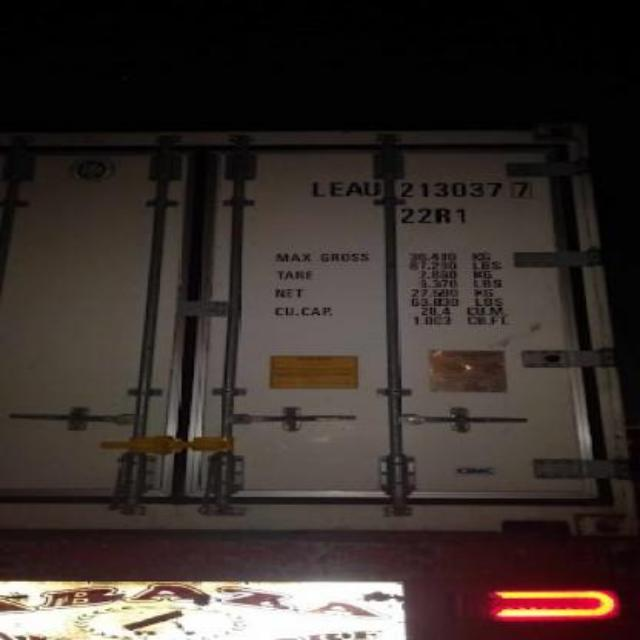0: (450, 174, 466, 202)
1: (414, 177, 430, 201)
2: (392, 178, 414, 202)
3: (466, 176, 484, 200), (434, 178, 450, 202)
7: (484, 171, 504, 201), (508, 178, 534, 200)
A: (344, 170, 362, 206)
E: (320, 174, 348, 202)
L: (304, 173, 326, 199)
U: (360, 178, 384, 202)
